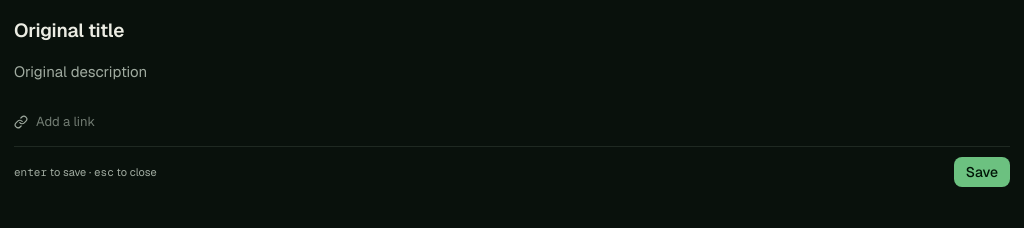
NodeDataInput › keeps a touched field and warns when the server changes it
Replace the text in the field named "title" with "My local title": coordinates (512, 31) [14,18,1010,44]
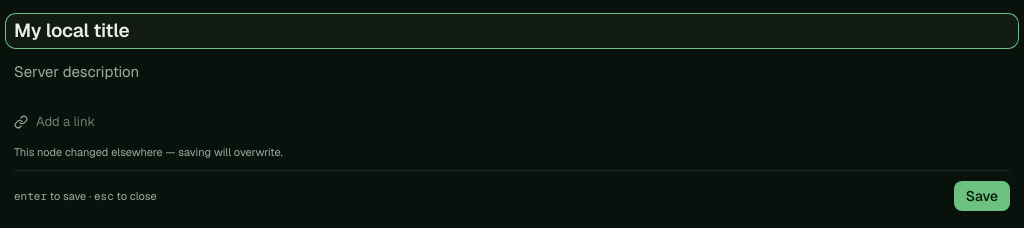
Result: the text box named "Description" holds "Server description" at [14,60,1010,96]
Result: the message reads "This node changed elsewhere — saving will overwrite." at [14,145,283,159]
